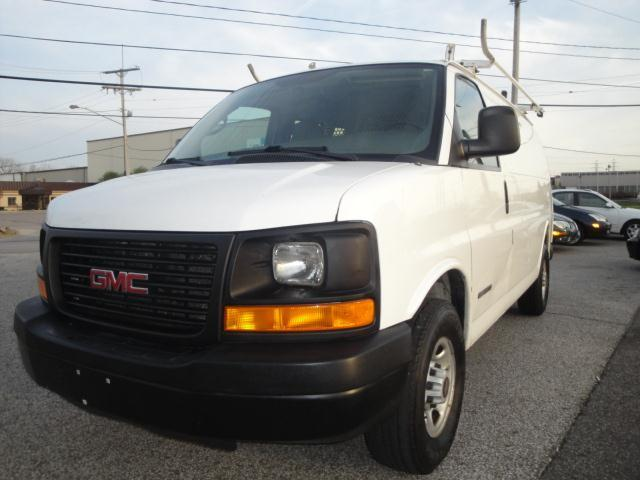GMC: (76, 252, 165, 302)
